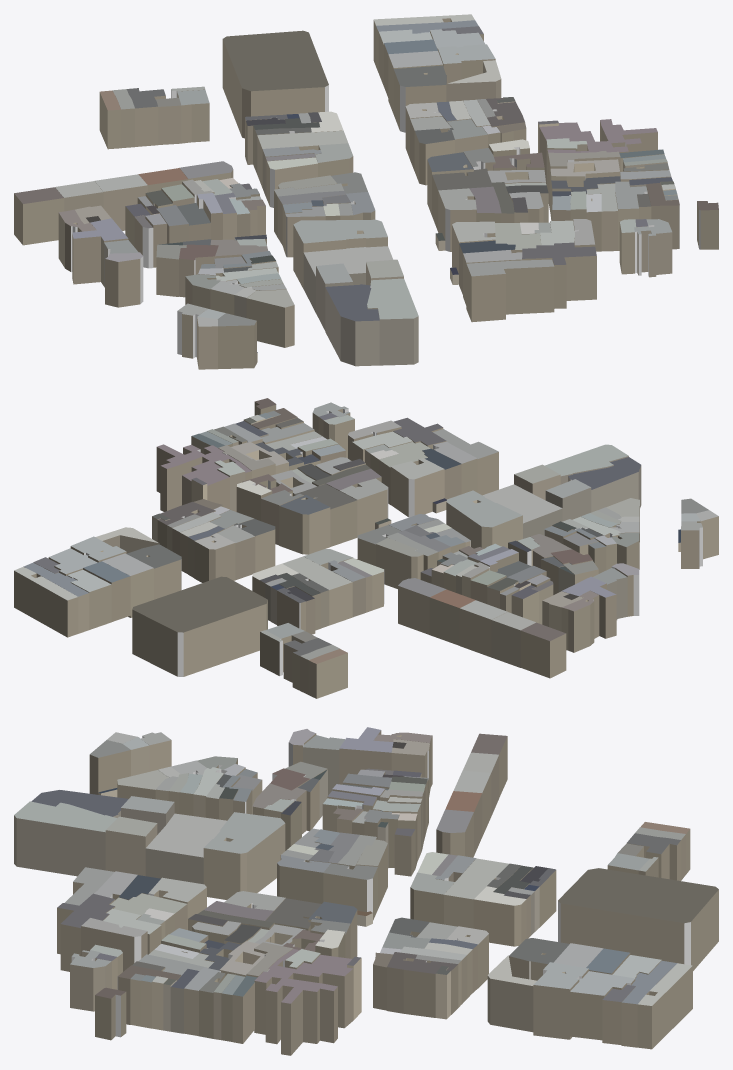
3 views of the same model, one above another, from view 1: azimuth 30°, elevation 25°; view 2: azimuth 150°, elevation 25°; view 3: azimuth 270°, elevation 25° (orthographic). The views are drawn at different scales.
Visible parts, largest first — view 1: tuile; view 2: tuile; view 3: tuile.
Part boxes in pixels (bbox=[...]): tuile: bbox=[14, 14, 718, 369]; tuile: bbox=[14, 398, 718, 698]; tuile: bbox=[14, 727, 718, 1055].
Size of the model in its own units: 274 by 27.02 by 291.
